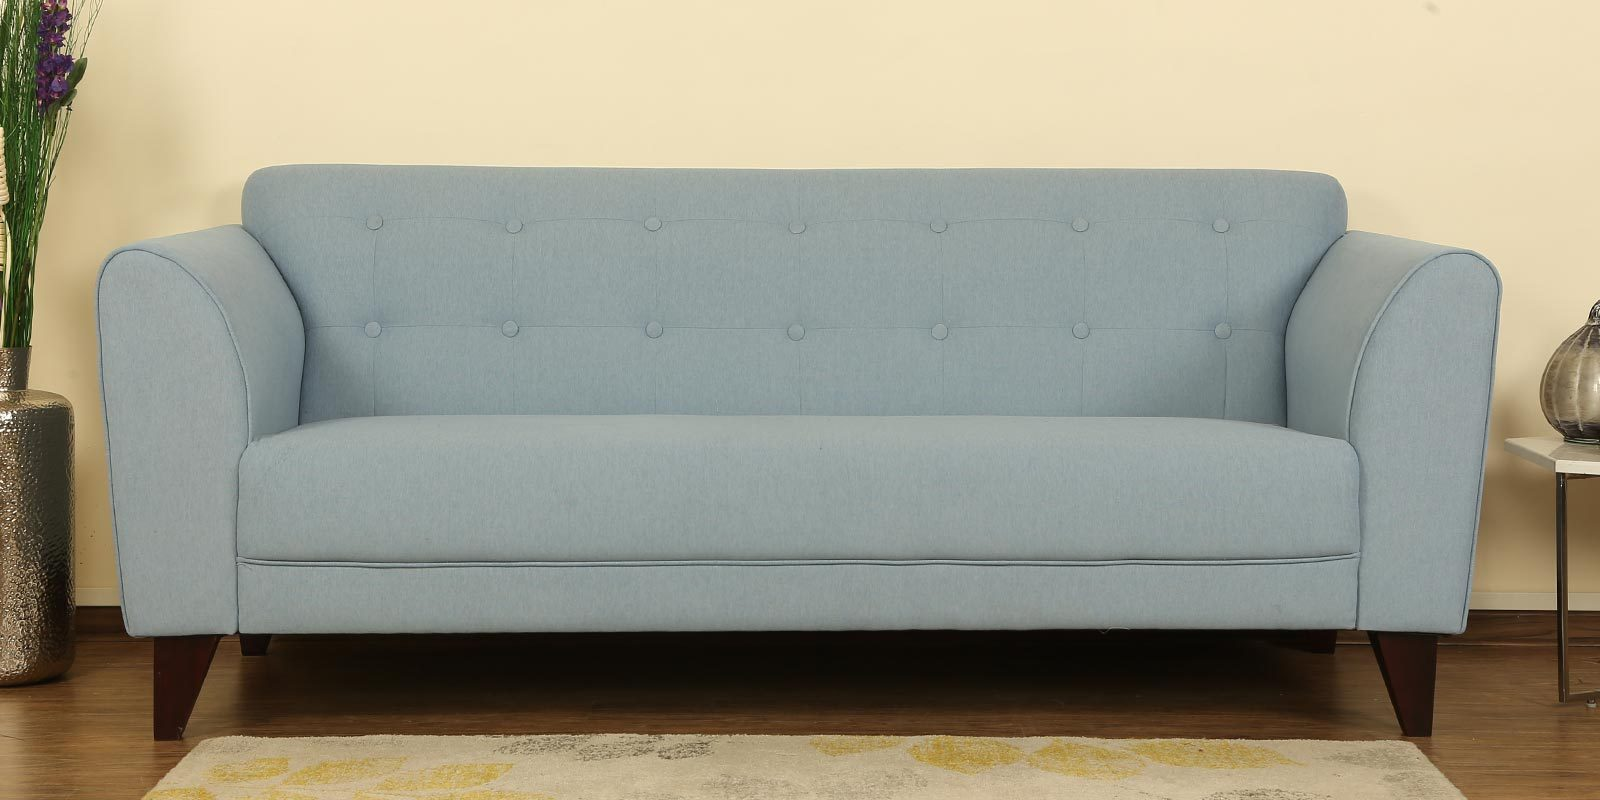Belem Three Seater Sofa in Ice Blue Color by CasaCraft: (87, 143, 1524, 651)
